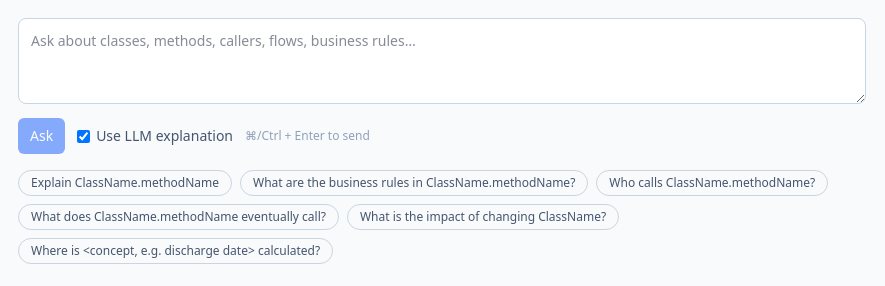
Scenario: AskPage › renders API errors
Step 1. Type "q" into the text box named "Question" → (442, 61), box [18, 18, 866, 104]
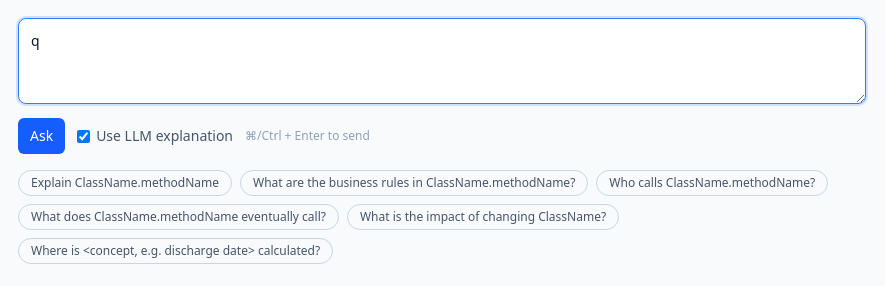
Step 2. Click the button "Ask" → (42, 136), box [18, 118, 65, 154]
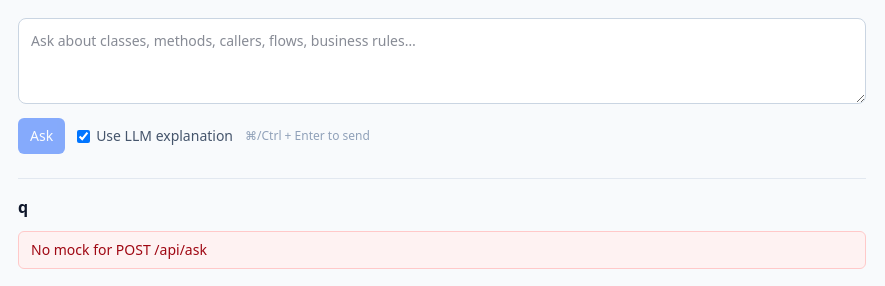
Expected: the message shows "No mock for POST", [31, 240, 207, 259]
